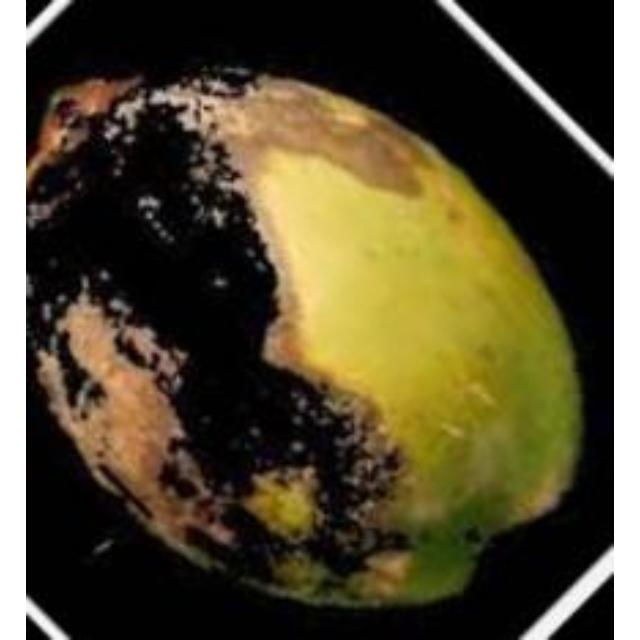damaged: (26, 66, 584, 618)
